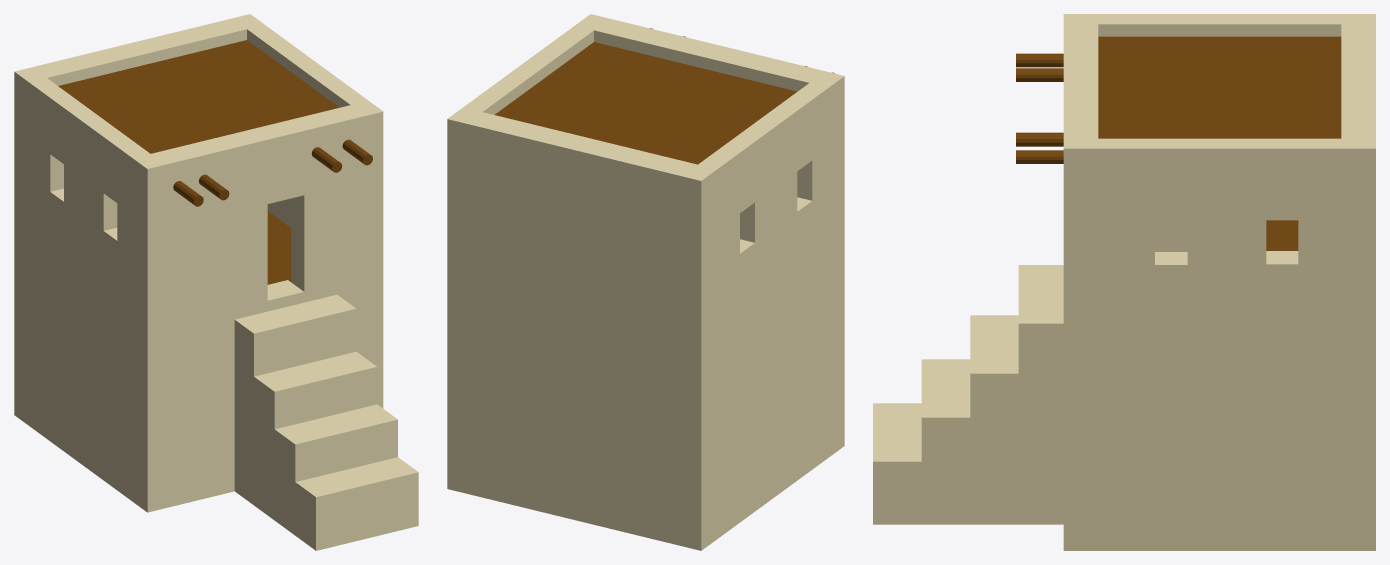
The model's file is square.glb.
The picture shows the model from 3 angles, left to right: view 1: azimuth 30°, elevation 25°; view 2: azimuth 150°, elevation 25°; view 3: azimuth 270°, elevation 25°; orthographic projection. The views are drawn at different scales.
Visible parts, largest first — view 1: square; view 2: square; view 3: square.
Part boxes in pixels (x1=…): square: x1=14, y1=14, x2=418, y2=550; square: x1=447, y1=14, x2=844, y2=550; square: x1=873, y1=14, x2=1375, y2=550.
Size of the model in its own units: 4.6 by 6.4 by 7.25.
